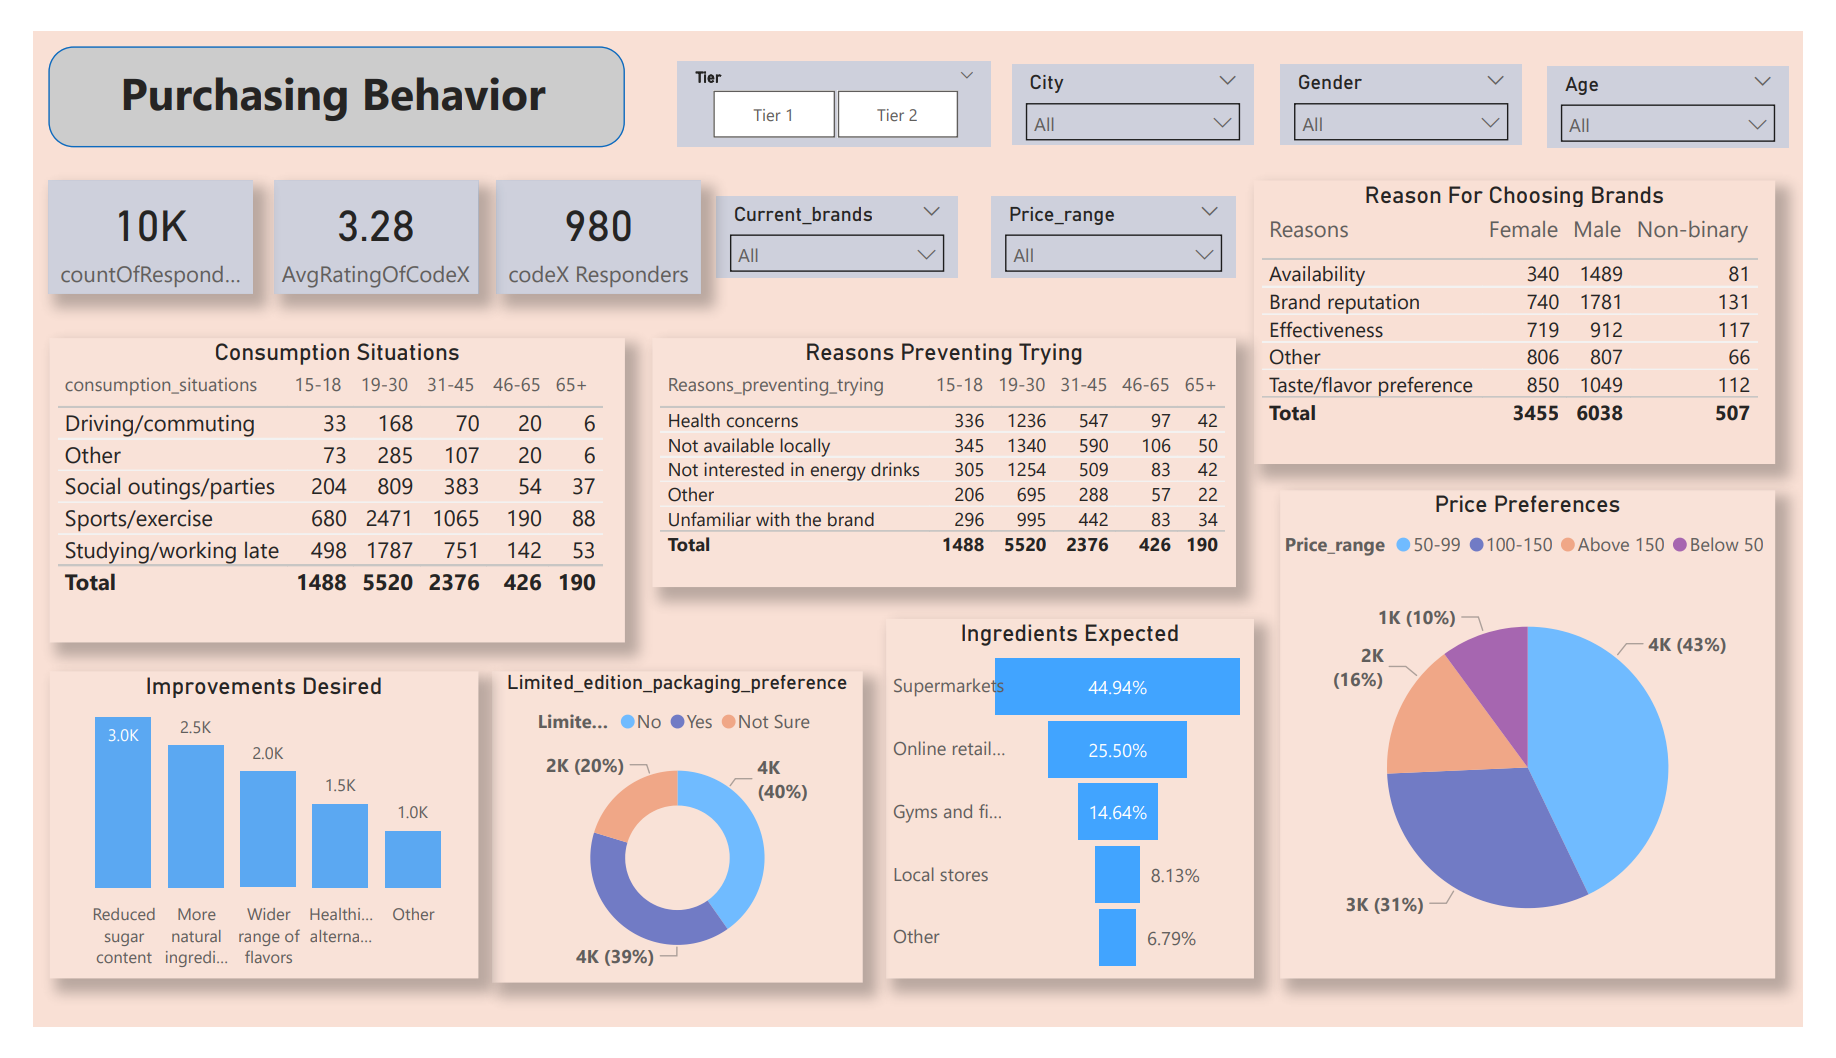

The dashboard page shown, as its layout file describes it:
{"tool":"powerbi","page":{"name":"Purchasing Behavior ","canvas":[1280,720],"ordinal":3},"visuals":[{"type":"card","fields":{"Values":["Key_measures.AvgRatingOfCodeX"]},"box":[174.1,107.8,147.9,82.2],"z":0,"group":"g2"},{"type":"slicer","fields":{"Values":["fact_survey_responses.Current_brands"]},"box":[494.4,118.9,174.7,59.5],"z":0},{"type":"group","id":"g1","title":"Group 1","box":[11.2,11.2,416.8,73.2],"z":1000},{"type":"pieChart","title":"Price Preferences ","fields":{"Y":["Key_measures.countOfResponders"],"Category":["fact_survey_responses.Price_range"]},"box":[901.7,331.7,358.3,353.3],"z":2000},{"type":"slicer","fields":{"Values":["dim_repondents.Age"]},"box":[1095.1,25.4,174.8,58.3],"z":3000},{"type":"card","fields":{"Values":["Key_measures.countOfResponders"]},"box":[11.2,107.8,147.9,82.2],"z":3000,"group":"g2"},{"type":"slicer","fields":{"Values":["dim_cities.City"]},"box":[708.2,23.9,174.8,58.3],"z":4000},{"type":"card","fields":{"Values":["Key_measures.codeX Responders"]},"box":[335.4,107.8,147.9,82.2],"z":4000,"group":"g2"},{"type":"slicer","fields":{"Values":["dim_repondents.Gender"]},"box":[902.4,23.9,174.8,58.3],"z":5000},{"type":"slicer","fields":{"Values":["dim_cities.Tier"]},"box":[466.1,22.4,227.1,61.3],"z":6000},{"type":"group","id":"g2","title":"Group 2","box":[11.2,107.8,472.1,81.8],"z":7000},{"type":"tableEx","title":"Consumption Situations","fields":{"Values":["fact_survey_responses.Typical_consumption_situations","Key_measures.15-18","Key_measures.19-30","Key_measures.31-45","Key_measures.46-65","Key_measures.65+"]},"box":[11.7,221.7,416.7,220],"z":8000},{"type":"shape","box":[11.2,11.2,416.8,73.2],"z":9000,"group":"g1"},{"type":"slicer","fields":{"Values":["fact_survey_responses.Price_range"]},"box":[693.2,118.9,176.6,59.5],"z":9000},{"type":"textbox","box":[25.9,17.6,391.7,58.3],"z":10000,"group":"g1"},{"type":"tableEx","title":"Reason For Choosing Brands","fields":{"Values":["fact_survey_responses.Reasons_for_choosing_brands","Key_measures.CountFemale","Key_measures.CountMale","Key_measures.CountBinary"]},"box":[882.5,107.5,377.5,205],"z":10000},{"type":"clusteredColumnChart","title":"Improvements Desired","fields":{"Category":["fact_survey_responses.Improvements_desired"],"Y":["Key_measures.countOfResponders"]},"box":[11.7,463.3,310,221.7],"z":11000},{"type":"tableEx","title":"Reasons Preventing Trying","fields":{"Values":["fact_survey_responses.Reasons_preventing_trying","Key_measures.15-18","Key_measures.19-30","Key_measures.31-45","Key_measures.46-65","Key_measures.65+"]},"box":[448.3,221.7,421.7,180],"z":12000},{"type":"funnel","title":"Ingredients Expected","fields":{"Y":["Key_measures.Percentage of Respondents"],"Category":["fact_survey_responses.Purchase_location"]},"box":[616.7,425,266.7,260],"z":13000},{"type":"donutChart","title":"Limited_edition_packaging_preference","fields":{"Y":["Key_measures.countOfResponders"],"Category":["fact_survey_responses.Limited_edition_packaging"]},"box":[331.7,463.3,268.3,225],"z":14000}]}

Visuals, with their boxes in screenshot pixels (x1, y1, x2, y2), scaled from the page's 1280x720 canvas onto the 1836x1058 screenshot:
card - Key_measures.AvgRatingOfCodeX: crop(250, 158, 462, 279)
slicer - fact_survey_responses.Current_brands: crop(709, 175, 960, 262)
"Group 1" group: crop(16, 16, 614, 124)
"Price Preferences " pieChart: crop(1293, 487, 1807, 1007)
slicer - dim_repondents.Age: crop(1571, 37, 1822, 123)
card - Key_measures.countOfResponders: crop(16, 158, 228, 279)
slicer - dim_cities.City: crop(1016, 35, 1267, 121)
card - Key_measures.codeX Responders: crop(481, 158, 693, 279)
slicer - dim_repondents.Gender: crop(1294, 35, 1545, 121)
slicer - dim_cities.Tier: crop(669, 33, 994, 123)
"Group 2" group: crop(16, 158, 693, 279)
"Consumption Situations" tableEx: crop(17, 326, 614, 649)
shape: crop(16, 16, 614, 124)
slicer - fact_survey_responses.Price_range: crop(994, 175, 1248, 262)
textbox: crop(37, 26, 599, 112)
"Reason For Choosing Brands" tableEx: crop(1266, 158, 1807, 459)
"Improvements Desired" clusteredColumnChart: crop(17, 681, 461, 1007)
"Reasons Preventing Trying" tableEx: crop(643, 326, 1248, 590)
"Ingredients Expected" funnel: crop(885, 625, 1267, 1007)
"Limited_edition_packaging_preference" donutChart: crop(476, 681, 861, 1011)
